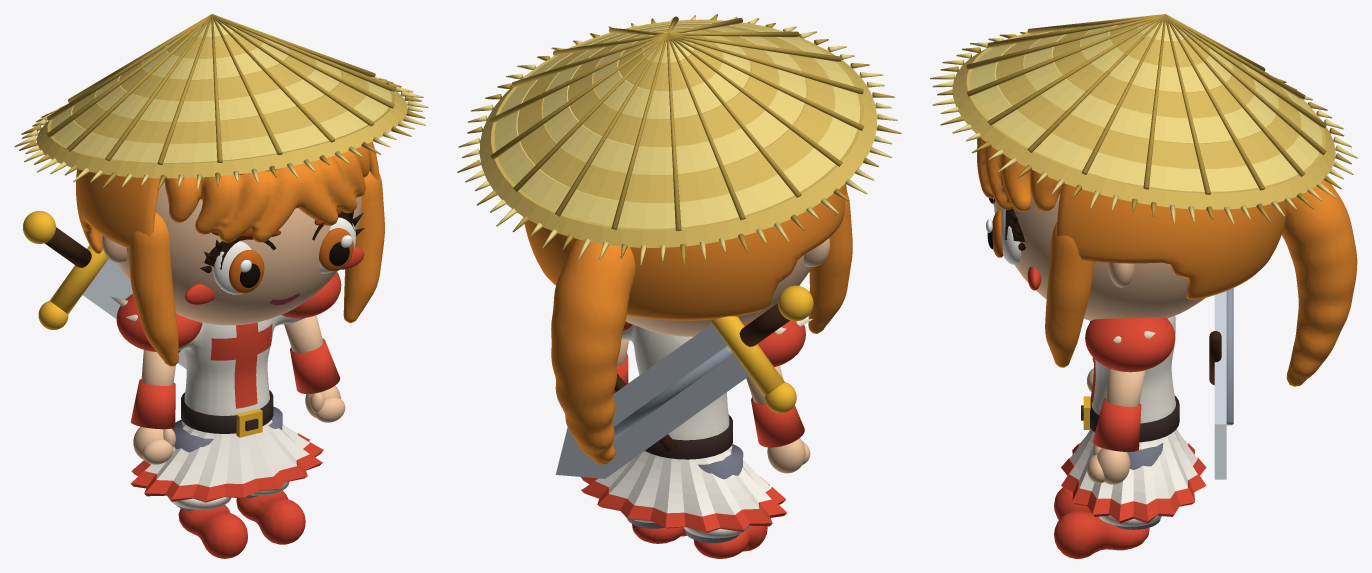
Rendered from feminin-iop.glb.
The picture shows the model from 3 angles, left to right: view 1: azimuth 30°, elevation 25°; view 2: azimuth 150°, elevation 25°; view 3: azimuth 270°, elevation 25°; orthographic projection. The views are drawn at different scales.
Visible parts, largest first — view 1: crane, meches, cone, cone_bord, jupe, cone.001, cheveux, cone.002, chevelure.001, tunique, cone.003, chevelure.002 (+39 smaller); view 2: cheveux, chevelure, cone, cone.001, cone_bord, cone.002, lame, cone.003, jupe, cone.004, jupe_ourlet, chevelure.001 (+30 smaller); view 3: cheveux, chevelure, cone, cone.001, cone_bord, crane, cone.002, cone.003, jupe, chevelure.002, epauliere.001, cone.004 (+29 smaller).
Part boxes in pixels (bbox=[...]): crane: bbox=[117, 182, 361, 325]; meches: bbox=[164, 146, 370, 242]; cone: bbox=[50, 69, 391, 162]; cone_bord: bbox=[37, 77, 407, 178]; jupe: bbox=[145, 419, 309, 487]; cone.001: bbox=[72, 70, 367, 143]; cheveux: bbox=[76, 142, 379, 253]; cone.002: bbox=[95, 59, 341, 122]; chevelure.001: bbox=[128, 212, 178, 366]; tunique: bbox=[178, 315, 304, 415]; cone.003: bbox=[119, 48, 315, 100]; chevelure.002: bbox=[343, 171, 384, 323]; cheveux: bbox=[523, 184, 846, 320]; chevelure: bbox=[551, 239, 635, 464]; cone: bbox=[494, 21, 860, 228]; cone.001: bbox=[517, 23, 834, 202]; cone_bord: bbox=[479, 19, 877, 247]; cone.002: bbox=[542, 25, 806, 174]; lame: bbox=[555, 324, 749, 478]; cone.003: bbox=[568, 28, 778, 146]; jupe: bbox=[595, 446, 771, 516]; cone.004: bbox=[593, 30, 750, 118]; jupe_ourlet: bbox=[581, 477, 786, 532]; chevelure.001: bbox=[808, 191, 852, 333]; cheveux: bbox=[1056, 183, 1286, 300]; chevelure: bbox=[1281, 180, 1357, 386]; cone: bbox=[970, 30, 1322, 191]; cone.001: bbox=[995, 27, 1301, 168]; cone_bord: bbox=[952, 33, 1335, 209]; crane: bbox=[993, 193, 1204, 320]; cone.002: bbox=[1024, 26, 1278, 143]; cone.003: bbox=[1052, 29, 1255, 117]; jupe: bbox=[1069, 429, 1197, 504]; chevelure.002: bbox=[1045, 223, 1094, 367]; epauliere.001: bbox=[1085, 317, 1175, 372]; cone.004: bbox=[1081, 25, 1232, 92].
Bounding box in the file's own units: 2.5 × 3.35 × 2.46.
